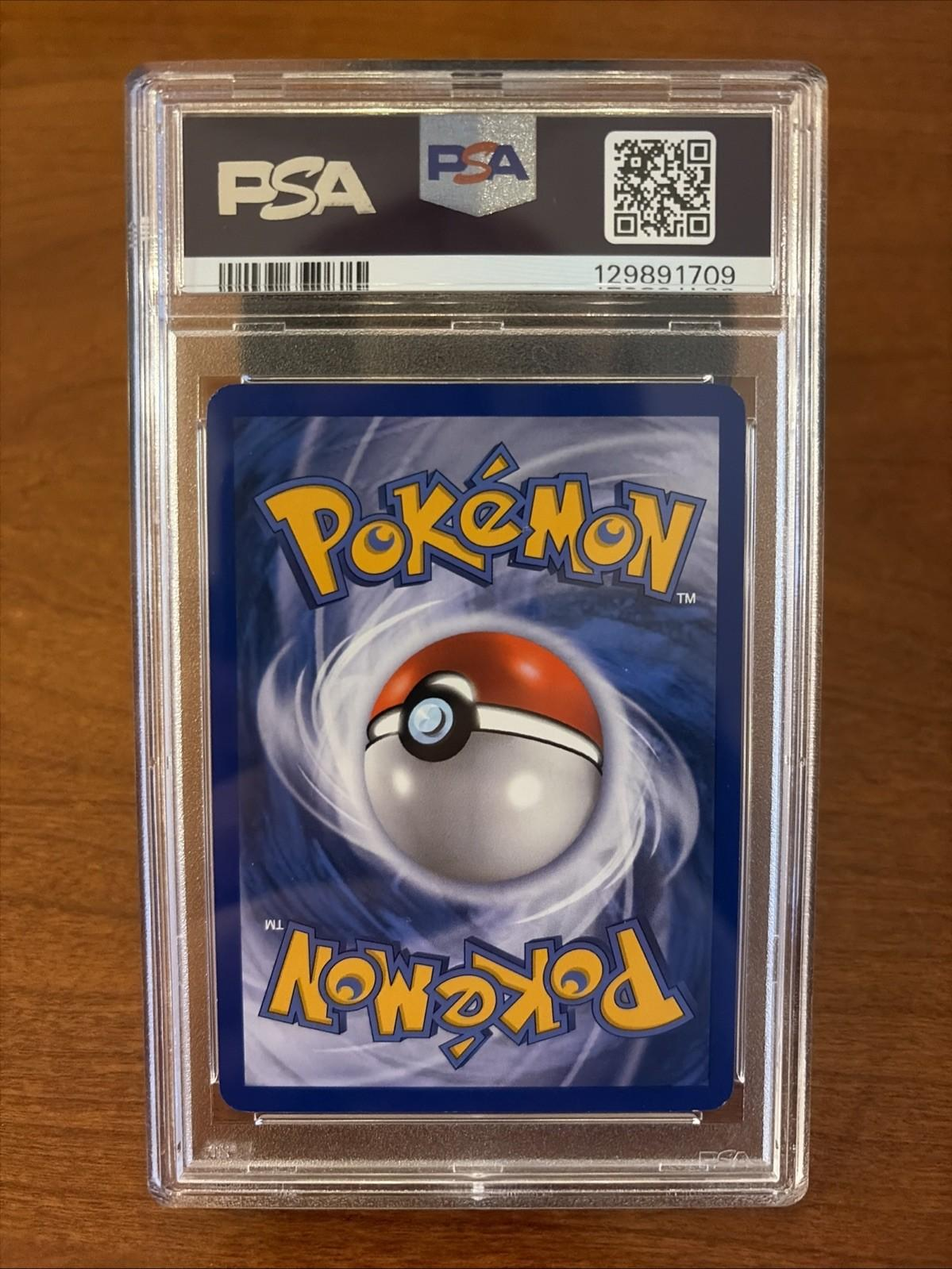card-2UtV: (205, 383, 746, 1113)
